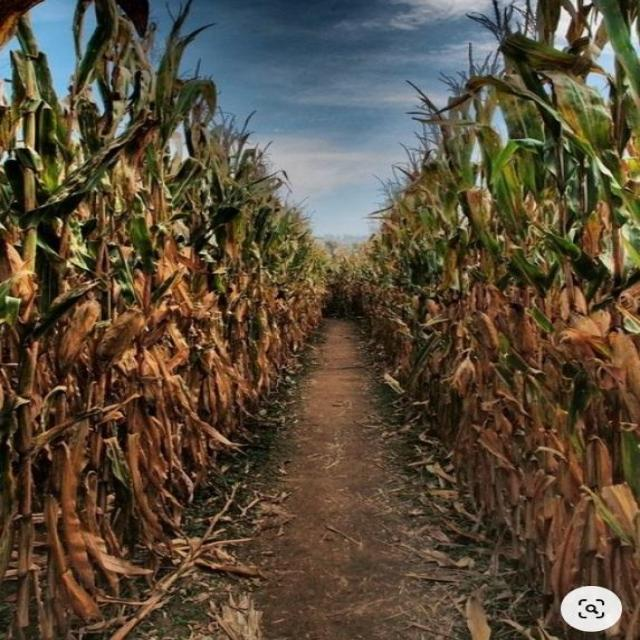row: (67, 308, 584, 640)
